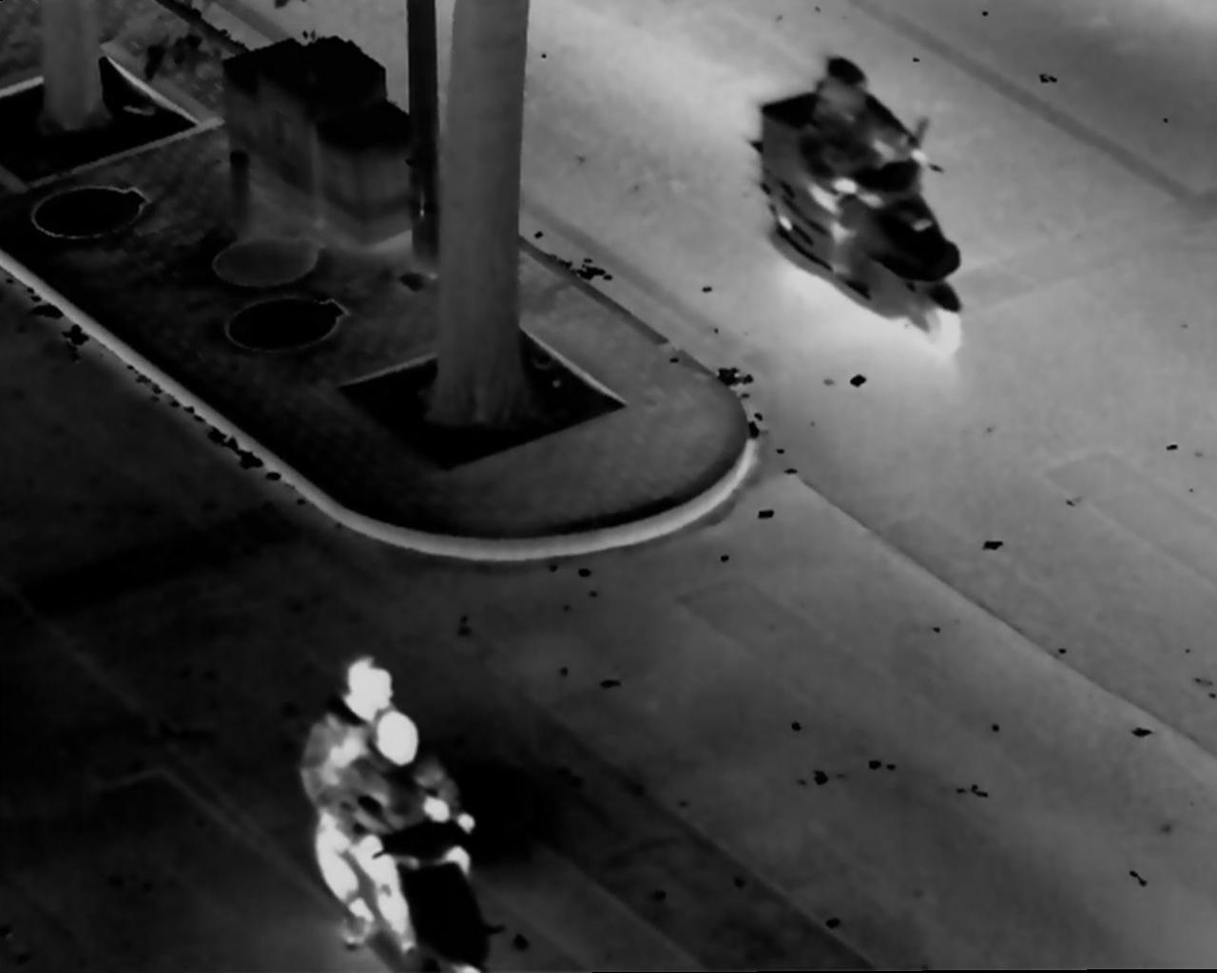person: (338, 705, 475, 966), (802, 53, 943, 303), (298, 652, 392, 943)
